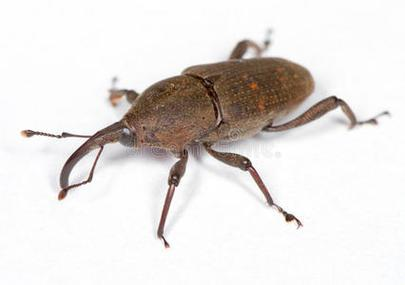Curculionidae: (18, 28, 391, 249)
